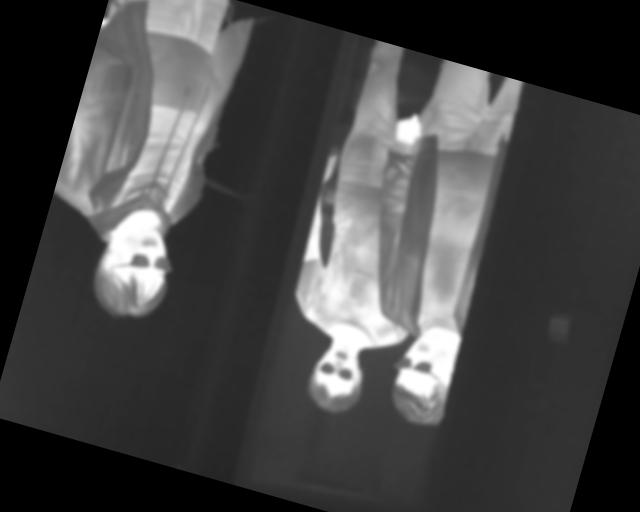face: (84, 215, 180, 329), (383, 325, 463, 431), (301, 335, 372, 420)
